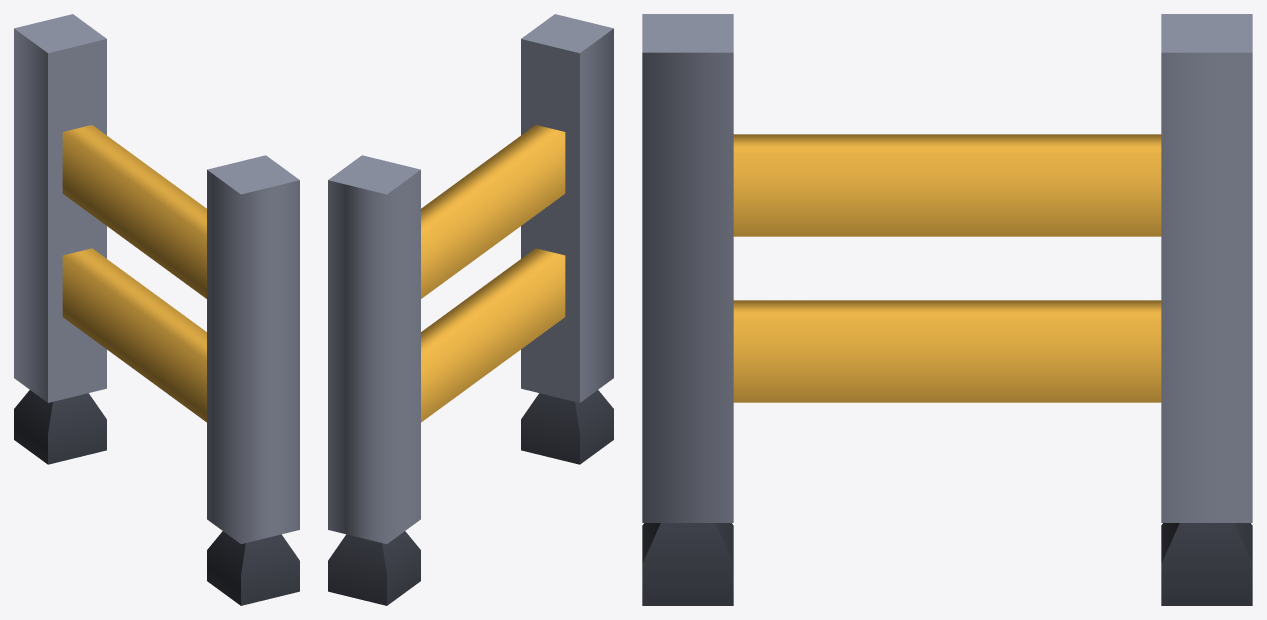
Rendered from structure-yellow-medium.dae.
3 views of the same model, side by side, from view 1: azimuth 30°, elevation 25°; view 2: azimuth 150°, elevation 25°; view 3: azimuth 270°, elevation 25° (orthographic). The views are drawn at different scales.
Visible parts, largest first — view 1: structure-yellow-medium; view 2: structure-yellow-medium; view 3: structure-yellow-medium.
Boxes of the visible parts, left/top/right/bottom form: structure-yellow-medium: left=14, top=14, right=299, bottom=605; structure-yellow-medium: left=328, top=14, right=613, bottom=605; structure-yellow-medium: left=642, top=14, right=1252, bottom=605.
Size of the model in its own units: 0.15 by 1 by 1.
